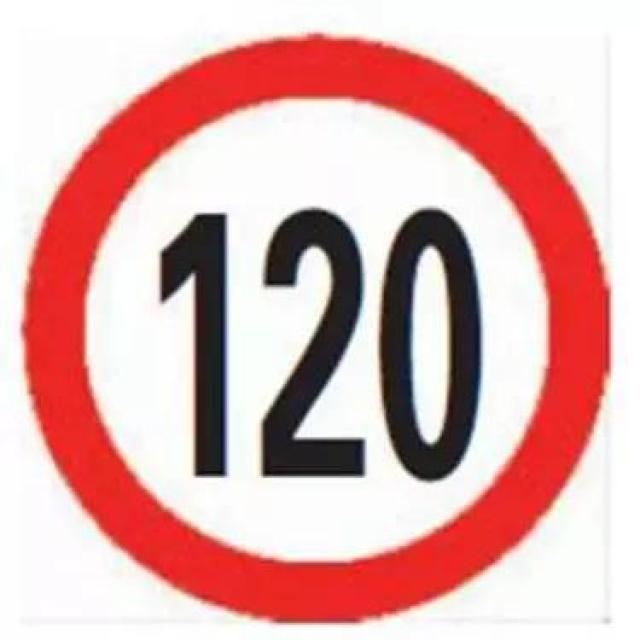speed limit 120: (25, 34, 610, 622)
